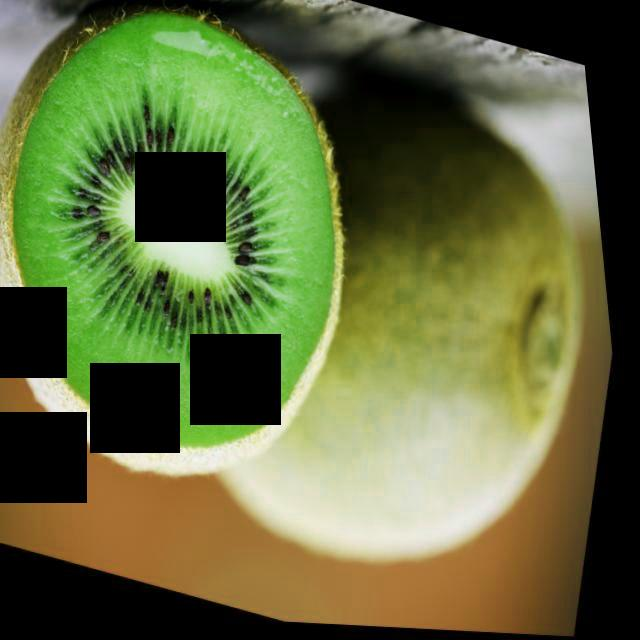kiwi: (158, 50, 640, 627)
